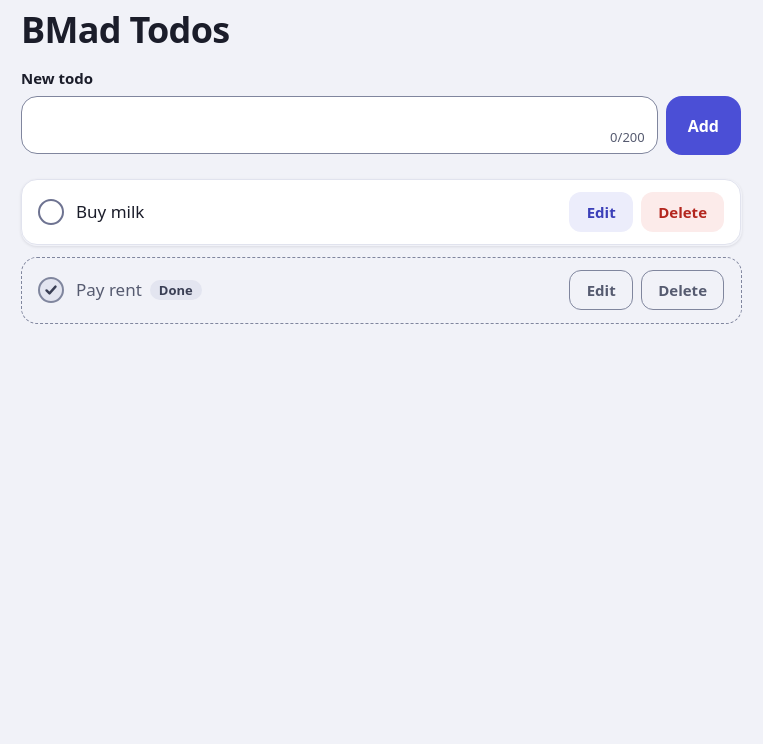
Scenario: Delete confirm › K4 Confirm delete removes the row at once, before the server answers, and Deleted is announced only once it does
This screenshot has width=763, height=744.
Later steps or results of the test are not shown.
Click the button with aria-label "Delete “Buy milk”". click: click(683, 212)
box: [641, 192, 724, 232]
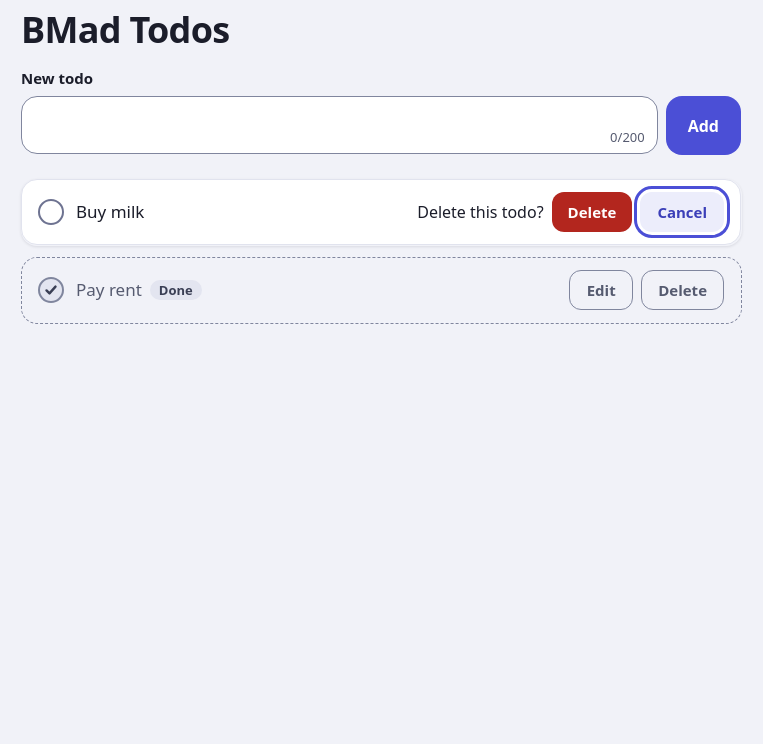
Click the button with aria-label "Delete “Buy milk”". click: click(592, 212)
box: [552, 192, 632, 232]
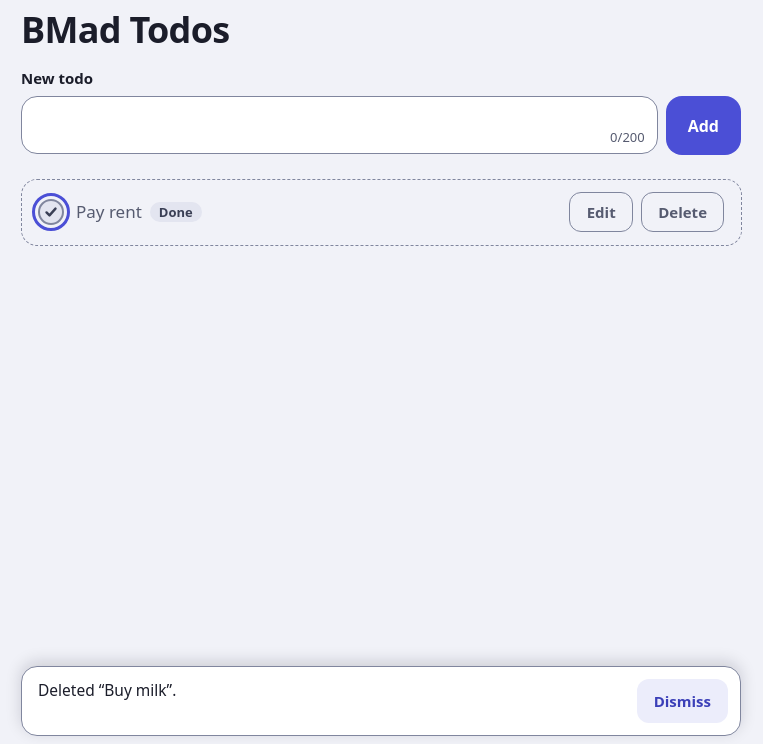
Expected: the message reads "Deleted “Buy milk”.", [38, 679, 176, 701]
